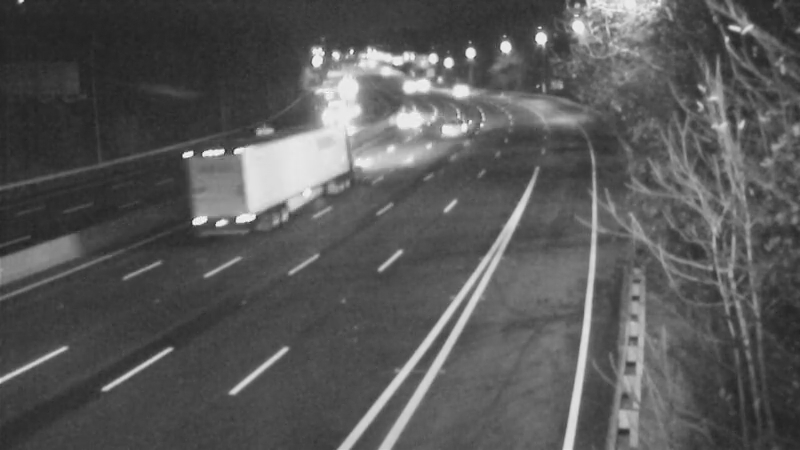vehicle: (216, 140, 296, 220), (429, 64, 479, 114), (434, 104, 484, 154), (388, 90, 438, 140), (313, 88, 363, 138)
